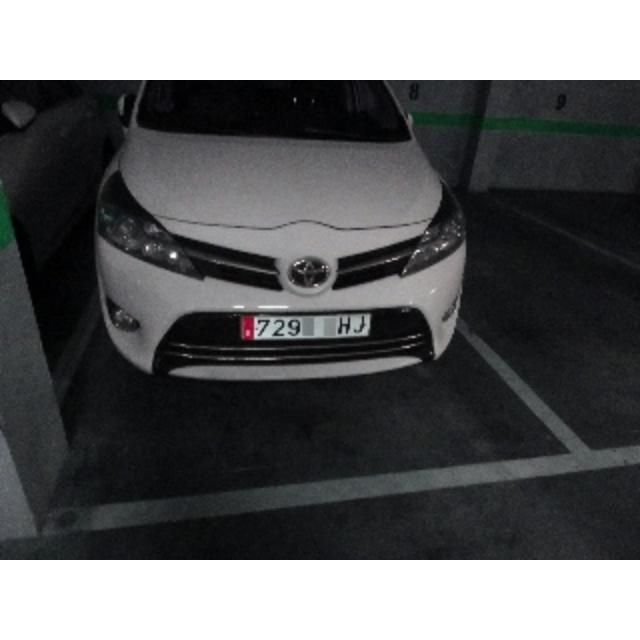car: (93, 80, 471, 386)
plate: (242, 314, 370, 338)
